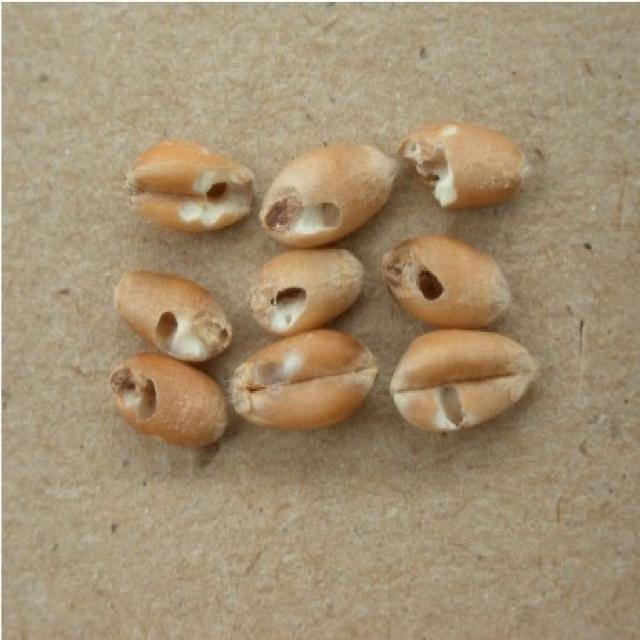wheat_grain: (388, 327, 537, 431), (229, 326, 378, 427), (259, 142, 396, 246), (124, 138, 258, 234), (382, 233, 510, 328), (397, 122, 528, 210), (110, 351, 229, 447), (113, 269, 231, 362), (245, 248, 361, 335)
